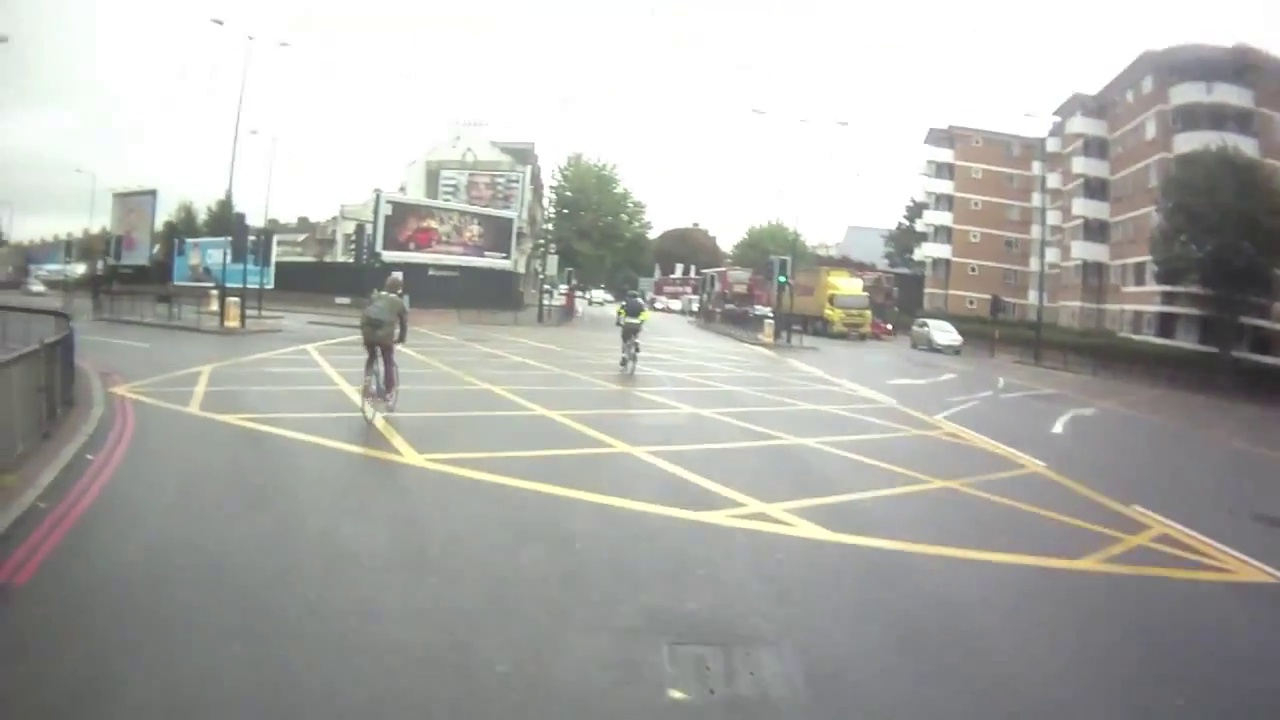cyclist_back: (364, 266, 408, 430), (614, 289, 648, 387)
